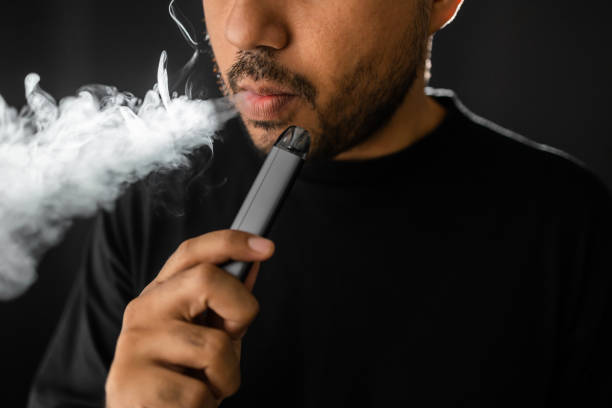cigarette: (222, 127, 311, 303)
